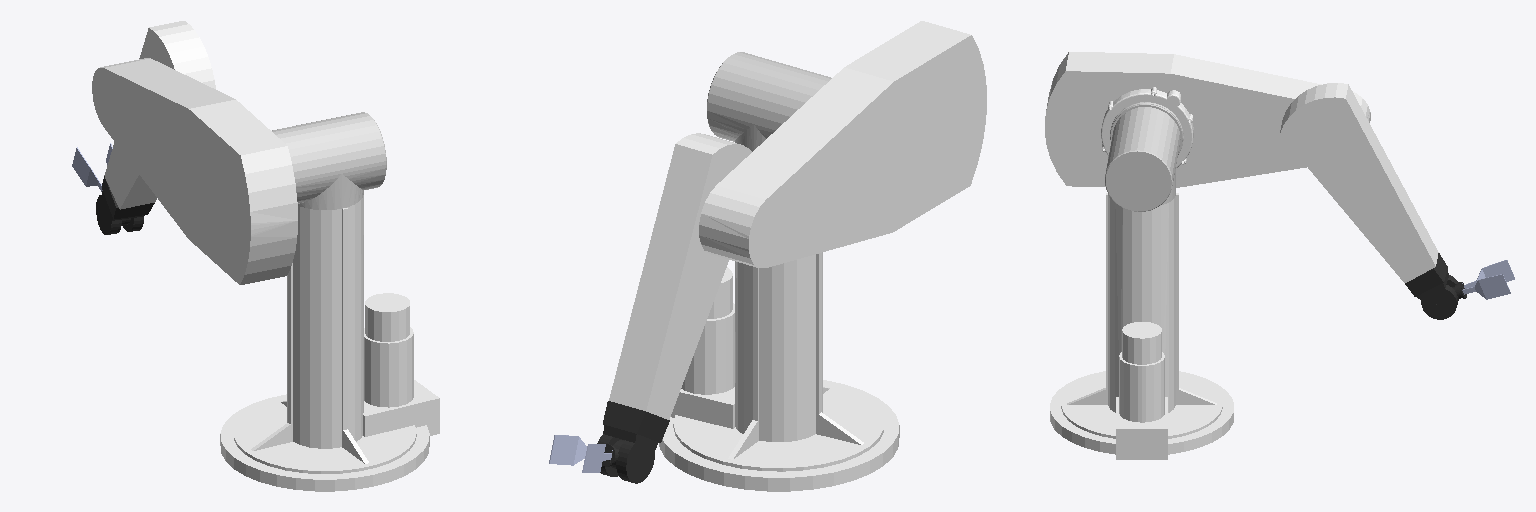
The robot description file, URDF, robot "forgemate":
<?xml version="1.0" encoding="utf-8"?>
<!-- This URDF was automatically created by SolidWorks to URDF Exporter! Originally created by [author] ([email redacted]) 
     Commit Version: 1.6.0-1-g15f4949  Build Version: 1.6.7594.29634
     For more information, please see http://wiki.ros.org/sw_urdf_exporter -->
<robot
  name="forgemate">
  <link
    name="world">
  </link>
  <joint
    name="dummy_joint"
    type="fixed">
    <parent
      link="world"/>
    <child
      link="base_link"/>
  </joint>
  <link
    name="base_link">
    <inertial>
      <origin
        xyz="-0.201780029716204 -0.05715 0.192164576780488"
        rpy="0 0 0" />
      <mass
        value="200.0" />
      <inertia
        ixx="0.481508422842796"
        ixy="-9.56488182282488E-18"
        ixz="0.0242161144027033"
        iyy="0.525140095558529"
        iyz="-8.25651536010494E-17"
        izz="0.152167163886255" />
    </inertial>
    <visual>
      <origin
        xyz="0 0 0"
        rpy="0 0 0" />
      <geometry>
        <mesh
          filename="package://forgemate/meshes/base_link.STL" />
      </geometry>
      <material
        name="">
        <color
          rgba="1 1 1 1" />
      </material>
    </visual>
    <collision>
      <origin
        xyz="0 0 0"
        rpy="0 0 0" />
      <geometry>name="forgemate">
  <link
    name="world">
  </link>
  <joint
    name="dummy_joint"
    type="fixed">
    <parent
      link="world"/>
    <child
      link="base_link"/>
  </joint>
        <mesh
          filename="package://forgemate/meshes/base_link.STL" />
      </geometry>
    </collision>
  </link>
  <link
    name="link1">
    <inertial>
      <origin
        xyz="-0.0785055691629313 -0.021785607631961 9.69427986219351E-08"
        rpy="0 0 0" />
      <mass
        value="100.0" />
      <inertia
        ixx="0.0275398765601917"
        ixy="-0.000269637309064723"
        ixz="-1.73298163318484E-08"
        iyy="0.0134023180791565"
        iyz="-1.31962239076616E-08"
        izz="0.0277036300623014" />
    </inertial>
    <visual>
      <origin
        xyz="0 0 0"
        rpy="0 0 0" />
      <geometry>
        <mesh
          filename="package://forgemate/meshes/link1.STL" />
      </geometry>
      <material
        name="">
        <color
          rgba="0.898039215686275 0.898039215686275 0.898039215686275 1" />
      </material>
    </visual>
    <collision>
      <origin
        xyz="0 0 0"
        rpy="0 0 0" />
      <geometry>
        <mesh
          filename="package://forgemate/meshes/link1.STL" />
      </geometry>
    </collision>
  </link>
  <joint
    name="joint1"
    type="revolute">
    <origin
      xyz="-0.2241 -0.0571499999999999 0.53594"
      rpy="1.64707043078226 1.5707963267949 0" />
    <parent
      link="base_link" />
    <child
      link="link1" />
    <axis
      xyz="1 0 0" />
    <limit
      lower="-3.14"
      upper="3.14"
      effort="100"
      velocity="1" /> />
  </joint>
  <link
    name="link2">
    <inertial>
      <origin
        xyz="0.0798588935056401 -0.127579649031366 -6.23099987517861E-05"
        rpy="0 0 0" />
      <mass
        value="5.0" />
      <inertia
        ixx="0.0969719587953052"
        ixy="0.00420732469545027"
        ixz="-1.86735555973545E-05"
        iyy="0.636943320852807"
        iyz="6.27183504326081E-05"
        izz="0.573778039051974" />
    </inertial>
    <visual>
      <origin
        xyz="0 0 0"
        rpy="0 0 0" />
      <geometry>
        <mesh
          filename="package://forgemate/meshes/link2.STL" />
      </geometry>
      <material
        name="">
        <color
          rgba="1 1 1 1" />
      </material>
    </visual>
    <collision>
      <origin
        xyz="0 0 0"
        rpy="0 0 0" />
      <geometry>
        <mesh
          filename="package://forgemate/meshes/link2.STL" />
      </geometry>
    </collision>
  </link>
  <joint
    name="joint2"
    type="revolute">
    <origin
      xyz="-0.0812799999999995 -0.0873316337262358 0"
      rpy="-3.14159265358972 1.56140864584861 -3.14159265358972" />
    <parent
      link="link1" />
    <child
      link="link2" />
    <axis
      xyz="0 1 0" />
    <limit
      lower="-1.54"
      upper="1.54"
      effort="500"
      velocity="1" />
  </joint>
  <link
    name="link3">
    <inertial>
      <origin
        xyz="0.0887993764033581 0.041868366273759 -1.11022302462516E-16"
        rpy="0 0 0" />
      <mass
        value="2.0" />
      <inertia
        ixx="0.00919452357492914"
        ixy="2.27682456221956E-17"
        ixz="1.86049092798513E-16"
        iyy="0.0873888257847391"
        iyz="2.60208521396521E-18"
        izz="0.0826492315574765" />
    </inertial>
    <visual>
      <origin
        xyz="0 0 0"
        rpy="0 0 0" />
      <geometry>
        <mesh
          filename="package://forgemate/meshes/link3.STL" />
      </geometry>
      <material
        name="">
        <color
          rgba="1 1 1 1" />
      </material>
    </visual>
    <collision>
      <origin
        xyz="0 0 0"
        rpy="0 0 0" />
      <geometry>
        <mesh
          filename="package://forgemate/meshes/link3.STL" />
      </geometry>
    </collision>
  </link>
  <joint
    name="joint3"
    type="revolute">
    <origin
      xyz="0.419174423836035 0 0"
      rpy="-3.14159265358979 -1.01798689549147 0" />
    <parent
      link="link2" />
    <child
      link="link3" />
    <axis
      xyz="0 1 0" />
    <limit
      lower="-1.54"
      upper="1.54"
      effort="50"
      velocity="1" />
  </joint>
  <link
    name="link4">
    <inertial>
      <origin
        xyz="-2.22044604925031E-16 0.0855174319596175 -2.22044604925031E-16"
        rpy="0 0 0" />
      <mass
        value="0.2" />
      <inertia
        ixx="0.000739216869581404"
        ixy="4.37069000783219E-19"
        ixz="1.35525271560688E-20"
        iyy="0.000467303684327266"
        iyz="8.53809210832335E-19"
        izz="0.000774335802618728" />
    </inertial>
    <visual>
      <origin
        xyz="0 0 0"
        rpy="0 0 0" />
      <geometry>
        <mesh
          filename="package://forgemate/meshes/link4.STL" />
      </geometry>
      <material
        name="">
        <color
          rgba="0.250980392156863 0.250980392156863 0.250980392156863 1" />
      </material>
    </visual>
    <collision>
      <origin
        xyz="0 0 0"
        rpy="0 0 0" />
      <geometry>
        <mesh
          filename="package://forgemate/meshes/link4.STL" />
      </geometry>
    </collision>
  </link>
  <joint
    name="joint4"
    type="revolute">
    <origin
      xyz="0.314211878634339 0.0418683662737575 0"
      rpy="-3.14159265358979 -0.0680732918142804 1.5707963267949" />
    <parent
      link="link3" />
    <child
      link="link4" />
    <axis
      xyz="0 1 0" />
    <limit
      lower="0.0"
      upper="0.0"
      effort="10"
      velocity="0.001" />
  </joint>
  <link
    name="link5">
    <inertial>
      <origin
        xyz="-1.54112811401319E-09 -0.0110063070000553 -1.06331571325669E-09"
        rpy="0 0 0" />
      <mass
        value="0.1" />
      <inertia
        ixx="4.31477475058453E-05"
        ixy="-4.02676130050047E-14"
        ixz="8.82914726890563E-12"
        iyy="1.69775242385585E-05"
        iyz="-6.32923614641559E-13"
        izz="4.55265791255721E-05" />
    </inertial>
    <visual>
      <origin
        xyz="0 0 0"
        rpy="0 0 0" />
      <geometry>
        <mesh
          filename="package://forgemate/meshes/link5.STL" />
      </geometry>
      <material
        name="">
        <color
          rgba="0.250980392156863 0.250980392156863 0.250980392156863 1" />
      </material>
    </visual>
    <collision>
      <origin
        xyz="0 0 0"
        rpy="0 0 0" />
      <geometry>
        <mesh
          filename="package://forgemate/meshes/link5.STL" />
      </geometry>
    </collision>
  </link>
  <joint
    name="joint5"
    type="revolute">
    <origin
      xyz="0 0.117933192090826 0"
      rpy="1.5707963267949 0.187961820626621 -1.57079632679489" />
    <parent
      link="link4" />
    <child
      link="link5" />
    <axis
      xyz="0 0 1" />
    <limit
      lower="-0.54"
      upper="1.54"
      effort="10"
      velocity="1" />
  </joint>
  <link
    name="grip1">
    <inertial>
      <origin
        xyz="0.067537735217824 -1.60982338570648E-15 0.00966346651694133"
        rpy="0 0 0" />
      <mass
        value="0.1" />
      <inertia
        ixx="1.49390981396763E-06"
        ixy="-4.34104385467829E-21"
        ixz="-2.17074200829833E-07"
        iyy="3.56125123269639E-06"
        iyz="-2.48815928255951E-21"
        izz="4.97668068318822E-06" />
    </inertial>
    <visual>
      <origin
        xyz="0 0 0"
        rpy="0 0 0" />
      <geometry>
        <mesh
          filename="package://forgemate/meshes/grip1.STL" />
      </geometry>
      <material
        name="">
        <color
          rgba="0.792156862745098 0.819607843137255 0.933333333333333 1" />
      </material>
    </visual>
    <collision>
      <origin
        xyz="0 0 0"
        rpy="0 0 0" />
      <geometry>
        <mesh
          filename="package://forgemate/meshes/grip1.STL" />
      </geometry>
    </collision>
  </link>
  <joint
    name="grip_joint1"
    type="revolute">
    <origin
      xyz="0 -0.05434 0.01105"
      rpy="0 -0.11872 -1.5708" />
    <parent
      link="link5" />
    <child
      link="grip1" />
    <axis
      xyz="0 1 0" />
    <limit
      lower="-0.75"
      upper="0.75"
      effort="0.1"
      velocity="0.1" />
  </joint>
  <link
    name="grip2">
    <inertial>
      <origin
        xyz="0.0701154475712735 1.60982338570648E-15 0.0316126213759021"
        rpy="0 0 0" />
      <mass
        value="0.1" />
      <inertia
        ixx="1.49390981396763E-06"
        ixy="3.81164826264435E-21"
        ixz="-2.17074200829837E-07"
        iyy="3.56125123269637E-06"
        iyz="-1.2837843106823E-21"
        izz="4.9766806831882E-06" />
    </inertial>
    <visual>
      <origin
        xyz="0 0 0"
        rpy="0 0 0" />
      <geometry>
        <mesh
          filename="package://forgemate/meshes/grip2.STL" />
      </geometry>
      <material
        name="">
        <color
          rgba="0.792156862745098 0.819607843137255 0.933333333333333 1" />
      </material>
    </visual>
    <collision>
      <origin
        xyz="0 0 0"
        rpy="0 0 0" />
      <geometry>
        <mesh
          filename="package://forgemate/meshes/grip2.STL" />
      </geometry>
    </collision>
  </link>
  <joint
    name="grip_joint2"
    type="revolute">
    <origin
      xyz="0 -0.05434 0.01105"
      rpy="-3.1416 0.1169 -1.5708" />
    <parent
      link="link5" />
    <child
      link="grip2" />
    <axis
      xyz="0 1 0" />
    <limit
      lower="-0.75"
      upper="0.75"
      effort="0.1"
      velocity="0.1" />
  </joint>

  <gazebo reference="base_link">
    <material>Gazebo/DarkGrey</material>
  </gazebo>
  <gazebo reference="link1">
      <material>Gazebo/White</material>
  </gazebo>
  <gazebo reference="link2">
      <material>Gazebo/DarkGrey</material>
  </gazebo>
  <gazebo reference="link3">
      <material>Gazebo/White</material>
  </gazebo>
  <gazebo reference="link4">
      <material>Gazebo/SkyBlue</material>
  </gazebo>
  <gazebo reference="link5">
      <material>Gazebo/Red</material>
  </gazebo>
  <gazebo reference="grip1">
      <material>Gazebo/Orange</material>
  </gazebo>
  <gazebo reference="grip2">
      <material>Gazebo/Orange</material>
  </gazebo>

  <transmission name="trans_1">
    <type>transmission_interface/SimpleTransmission</type>
    <joint name="joint1">
      <hardwareInterface>hardware_interface/EffortJointInterface</hardwareInterface>
    </joint>
    <actuator name="motor_1">
      <mechanicalReduction>1</mechanicalReduction>
      <hardwareInterface>hardware_interface/EffortJointInterface</hardwareInterface>
    </actuator>
  </transmission>

  <transmission name="trans_2">
    <type>transmission_interface/SimpleTransmission</type>
    <joint name="joint2">
      <hardwareInterface>hardware_interface/EffortJointInterface</hardwareInterface>
    </joint>
    <actuator name="motor_2">
      <mechanicalReduction>1</mechanicalReduction>
      <hardwareInterface>hardware_interface/EffortJointInterface</hardwareInterface>
    </actuator>
  </transmission>

  <transmission name="trans_3">
    <type>transmission_interface/SimpleTransmission</type>
    <joint name="joint3">
      <hardwareInterface>hardware_interface/EffortJointInterface</hardwareInterface>
    </joint>
    <actuator name="motor_3">
      <mechanicalReduction>1</mechanicalReduction>
      <hardwareInterface>hardware_interface/EffortJointInterface</hardwareInterface>
    </actuator>
  </transmission>

  <transmission name="trans_4">
    <type>transmission_interface/SimpleTransmission</type>
    <joint name="joint4">
      <hardwareInterface>hardware_interface/EffortJointInterface</hardwareInterface>
    </joint>
    <actuator name="motor4">
      <mechanicalReduction>1</mechanicalReduction>
      <hardwareInterface>hardware_interface/EffortJointInterface</hardwareInterface>
    </actuator>
  </transmission>

  <transmission name="trans_5">
    <type>transmission_interface/SimpleTransmission</type>
    <joint name="joint5">
      <hardwareInterface>hardware_interface/EffortJointInterface</hardwareInterface>
    </joint>
    <actuator name="motor5">
      <mechanicalReduction>1</mechanicalReduction>
      <hardwareInterface>hardware_interface/EffortJointInterface</hardwareInterface>
    </actuator>
  </transmission>

  <transmission name="trans_6">
    <type>transmission_interface/SimpleTransmission</type>
    <joint name="grip_joint1">
      <hardwareInterface>hardware_interface/EffortJointInterface</hardwareInterface>
    </joint>
    <actuator name="motor_6">
      <mechanicalReduction>1</mechanicalReduction>
      <hardwareInterface>hardware_interface/EffortJointInterface</hardwareInterface>
    </actuator>
  </transmission>

  <transmission name="trans_7">
    <type>transmission_interface/SimpleTransmission</type>
    <joint name="grip_joint2">
      <hardwareInterface>hardware_interface/EffortJointInterface</hardwareInterface>
    </joint>
    <actuator name="motor_7">
      <mechanicalReduction>1</mechanicalReduction>
      <hardwareInterface>hardware_interface/EffortJointInterface</hardwareInterface>
    </actuator>
  </transmission>
</robot>

--- Facts derived from the render (not from the file) ---
Views: 3 orthographic renders of the robot side by side, from view 1: azimuth 30°, elevation 25°; view 2: azimuth 150°, elevation 25°; view 3: azimuth 270°, elevation 25°.
Robot: forgemate — 9 links, 8 joints (7 revolute, 1 fixed); root link world; default pose: every joint at zero.
Links seen in each view (by area): view 1: base_link, link2, link1, link3, link4, grip2; view 2: link2, base_link, link3, link1, link4, grip1, grip2; view 3: base_link, link2, link3, link1, link4, grip1.
Boxes of the visible links, x1,y1,x2,y2 form: base_link: [220, 195, 439, 491]; link2: [92, 58, 297, 284]; link1: [272, 112, 386, 209]; link3: [104, 21, 215, 209]; link4: [96, 176, 154, 234]; grip2: [72, 147, 102, 191]; link2: [699, 21, 986, 267]; base_link: [659, 252, 899, 491]; link3: [609, 133, 751, 419]; link1: [707, 52, 831, 151]; link4: [597, 401, 669, 483]; grip1: [549, 435, 586, 465]; grip2: [582, 444, 612, 472]; base_link: [1050, 193, 1233, 459]; link2: [1045, 52, 1370, 187]; link3: [1280, 83, 1438, 282]; link1: [1105, 102, 1183, 211]; link4: [1405, 253, 1458, 319]; grip1: [1462, 274, 1510, 299].
Bounding box of the posed robot: 0.5096 × 1.04 × 0.7574 m (x, y, z).
8 mesh visuals loaded from 8 distinct referenced files (8 binary STL).